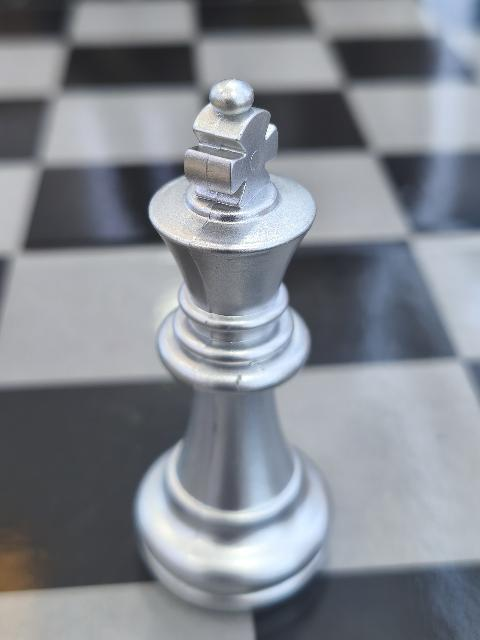white_king: (137, 77, 332, 618)
